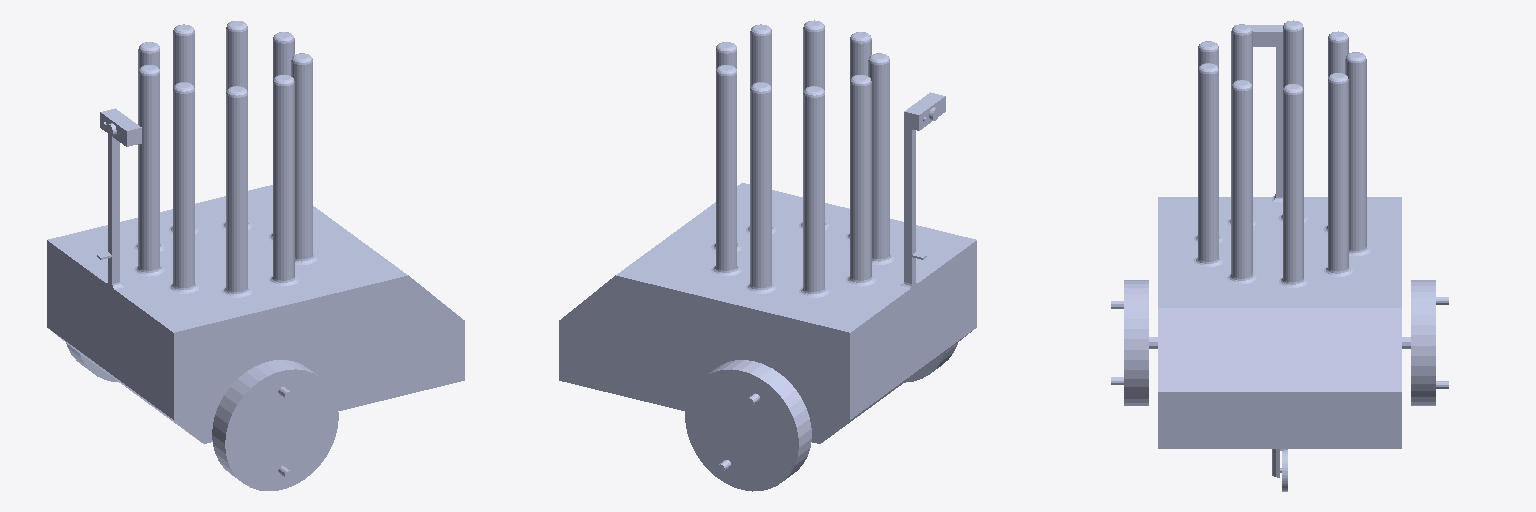
The robot description file, URDF, robot "autozuvc_urdfyy":
<?xml version="1.0" encoding="utf-8"?>
<!-- This URDF was automatically created by SolidWorks to URDF Exporter! Originally created by [author] ([email redacted]) 
     Commit Version: 1.5.1-0-g916b5db  Build Version: 1.5.7152.31018
     For more information, please see http://wiki.ros.org/sw_urdf_exporter -->
<robot
  name="autozuvc_urdfyy">
<gazebo>
<plugin filename="libgazebo_ros_diff_drive.so" name="differential_drive_controller">
<legacyMode>false</legacyMode>
<alwaysOn>true</alwaysOn>
<updateRate>20</updateRate>
<leftJoint>lcontinuous</leftJoint>
<rightJoint>rcontinuous</rightJoint>
<wheelSeparation>0.64</wheelSeparation>
<wheelDiameter>0.3</wheelDiameter>
<torque>0.1</torque>
<commandTopic>cmd_vel</commandTopic>
<odometryTopic>odom</odometryTopic>
<odometryFrame>odom</odometryFrame>
<robotBaseFrame>base_link</robotBaseFrame>
</plugin>
</gazebo>	

  <link
    name="base_link">
    <inertial>
      <origin
        xyz="-0.017438 0.024051 2.6499E-06"
        rpy="0 0 0" />
      <mass
        value="20" />
      <inertia
        ixx="6.1934"
        ixy="0.57541"
        ixz="-0.0001332"
        iyy="9.5271"
        iyz="7.7947E-05"
        izz="8.3588" />
    </inertial>
    <visual>
      <origin
        xyz="0 0 0"
        rpy="0 0 0" />
      <geometry>
        <mesh
          filename="package://autozuvc_urdfyy/meshes/base_link.STL" />
      </geometry>
      <material
        name="">
        <color
          rgba="0.79216 0.81961 0.93333 1" />
      </material>
    </visual>
    <collision>
      <origin
        xyz="0 0 0"
        rpy="0 0 0" />
      <geometry>
        <mesh
          filename="package://autozuvc_urdfyy/meshes/base_link.STL" />
      </geometry>
    </collision>
  </link>
  <link
    name="rwheel">
    <inertial>
      <origin
        xyz="0.030201 0 3.6082E-16"
        rpy="0 0 0" />
      <mass
        value="1" />
      <inertia
        ixx="0.047898"
        ixy="0"
        ixz="2.3671E-16"
        iyy="0.025154"
        iyz="7.053E-35"
        izz="0.025342" />
    </inertial>
    <visual>
      <origin
        xyz="0 0 0"
        rpy="0 0 0" />
      <geometry>
        <mesh
          filename="package://autozuvc_urdfyy/meshes/rwheel.STL" />
      </geometry>
      <material
        name="">
        <color
          rgba="0.79216 0.81961 0.93333 1" />
      </material>
    </visual>
    <collision>
      <origin
        xyz="0 0 0"
        rpy="0 0 0" />
      <geometry>
        <mesh
          filename="package://autozuvc_urdfyy/meshes/rwheel.STL" />
      </geometry>
    </collision>
  </link>
  <joint
    name="rcontinuous"
    type="continuous">
    <origin
      xyz="-0.144999999999997 -0.309999999999998 -0.12"
      rpy="-1.5707963267949 0 -1.5707963267949" />
    <parent
      link="base_link" />
    <child
      link="rwheel" />
    <axis
      xyz="1 0 0" />
  </joint>
  <link
    name="lwheel">
    <inertial>
      <origin
        xyz="0.030201 -1.6653E-16 2.7756E-16"
        rpy="0 0 0" />
      <mass
        value="1" />
      <inertia
        ixx="0.047898"
        ixy="-1.0668E-16"
        ixz="2.124E-16"
        iyy="0.025154"
        iyz="-8.6736E-19"
        izz="0.025342" />
    </inertial>
    <visual>
      <origin
        xyz="0 0 0"
        rpy="0 0 0" />
      <geometry>
        <mesh
          filename="package://autozuvc_urdfyy/meshes/lwheel.STL" />
      </geometry>
      <material
        name="">
        <color
          rgba="0.79216 0.81961 0.93333 1" />
      </material>
    </visual>
    <collision>
      <origin
        xyz="0 0 0"
        rpy="0 0 0" />
      <geometry>
        <mesh
          filename="package://autozuvc_urdfyy/meshes/lwheel.STL" />
      </geometry>
    </collision>
  </link>
  <joint
    name="lcontinuous"
    type="continuous">
    <origin
      xyz="-0.145000000000003 0.309999999999995 -0.12"
      rpy="-1.96389113722142 0 1.5707963267949" />
    <parent
      link="base_link" />
    <child
      link="lwheel" />
    <axis
      xyz="1 0 0" />
  </joint>
  <link
    name="cwheel">
    <inertial>
      <origin
        xyz="-0.0075 -2.7756E-17 -1.1102E-16"
        rpy="0 0 0" />
      <mass
        value="5" />
      <inertia
        ixx="0.00014725"
        ixy="8.6228E-38"
        ixz="7.5279E-19"
        iyy="7.5811E-05"
        iyz="1.1248E-40"
        izz="7.5811E-05" />
    </inertial>
    <visual>
      <origin
        xyz="0 0 0"
        rpy="0 0 0" />
      <geometry>
        <mesh
          filename="package://autozuvc_urdfyy/meshes/cwheel.STL" />
      </geometry>
      <material
        name="">
        <color
          rgba="0.79216 0.81961 0.93333 1" />
      </material>
    </visual>
    <collision>
      <origin
        xyz="0 0 0"
        rpy="0 0 0" />
      <geometry>
        <mesh
          filename="package://autozuvc_urdfyy/meshes/cwheel.STL" />
      </geometry>
    </collision>
  </link>
  <joint
    name="ccontinuous"
    type="continuous">
    <origin
      xyz="0.355 0.00500000000000267 -0.22"
      rpy="-1.5707963267949 0 -1.5707963267949" />
    <parent
      link="base_link" />
    <child
      link="cwheel" />
    <axis
      xyz="1 0 0" />
  </joint>
  <link
    name="lidar">
    <inertial>
      <origin
        xyz="0.0068576 0.0087923 0"
        rpy="0 0 0" />
      <mass
        value="1" />
      <inertia
        ixx="5.1112E-05"
        ixy="1.6315E-05"
        ixz="1.2946E-19"
        iyy="0.00010945"
        iyz="-5.6771E-20"
        izz="8.8822E-05" />
    </inertial>
    <visual>
      <origin
        xyz="0 0 0"
        rpy="0 0 0" />
      <geometry>
        <mesh
          filename="package://autozuvc_urdfyy/meshes/lidar.STL" />
      </geometry>
      <material
        name="">
        <color
          rgba="0.79216 0.81961 0.93333 1" />
      </material>
    </visual>
    <collision>
      <origin
        xyz="0 0 0"
        rpy="0 0 0" />
      <geometry>
        <mesh
          filename="package://autozuvc_urdfyy/meshes/lidar.STL" />
      </geometry>
    </collision>
  </link>
  <joint
    name="lfixed"
    type="fixed">
    <origin
      xyz="-0.4225 0.00391941090707361 0.2345"
      rpy="1.5707963267949 0 1.5707963267949" />
    <parent
      link="base_link" />
    <child
      link="lidar" />
    <axis
      xyz="0 0 0" />
  </joint>
  <link
    name="camera">
    <inertial>
      <origin
        xyz="-7.1444E-05 0 -0.00093026"
        rpy="0 0 0" />
      <mass
        value="1" />
      <inertia
        ixx="5.6104E-05"
        ixy="-7.7897E-21"
        ixz="-3.0738E-07"
        iyy="0.00026142"
        iyz="-2.9124E-21"
        izz="0.00025732" />
    </inertial>
    <visual>
      <origin
        xyz="0 0 0"
        rpy="0 0 0" />
      <geometry>
        <mesh
          filename="package://autozuvc_urdfyy/meshes/camera.STL" />
      </geometry>
      <material
        name="">
        <color
          rgba="0.79216 0.81961 0.93333 1" />
      </material>
    </visual>
    <collision>
      <origin
        xyz="0 0 0"
        rpy="0 0 0" />
      <geometry>
        <mesh
          filename="package://autozuvc_urdfyy/meshes/camera.STL" />
      </geometry>
    </collision>
  </link>
  <joint
    name="cfixed"
    type="fixed">
    <origin
      xyz="-0.384999999999999 -0.0500000000000039 0.57"
      rpy="-1.5707963267949 0 -1.5707963267949" />
    <parent
      link="base_link" />
    <child
      link="camera" />
    <axis
      xyz="0 0 0" />
  </joint>
</robot>

--- What the picture shows (computed from the rendered views, not written in the file) ---
3 views of the same robot in one strip: view 1: azimuth 30°, elevation 25°; view 2: azimuth 150°, elevation 25°; view 3: azimuth 270°, elevation 25° (orthographic).
Robot: autozuvc_urdfyy — 6 links, 5 joints (3 continuous, 2 fixed); root link base_link; default pose: all joints at 0.
Links seen in each view (by area): view 1: base_link, rwheel, camera; view 2: base_link, lwheel, camera; view 3: base_link, rwheel, lwheel, camera.
Link boxes in pixels (x1,y1,x2,y2): base_link: (47, 21, 464, 443); rwheel: (212, 360, 338, 490); camera: (100, 108, 141, 146); base_link: (559, 20, 976, 443); lwheel: (685, 360, 811, 491); camera: (904, 92, 945, 130); base_link: (1149, 20, 1410, 477); rwheel: (1111, 280, 1148, 405); lwheel: (1411, 280, 1448, 405); camera: (1234, 25, 1282, 46).
Bounding box of the posed robot: 0.82 × 0.8 × 0.93 m (x, y, z).
Meshes: 6 distinct files referenced, 5 mesh visuals loaded (5 binary STL); not drawn: 1 (reference not matched to a file when rendering).